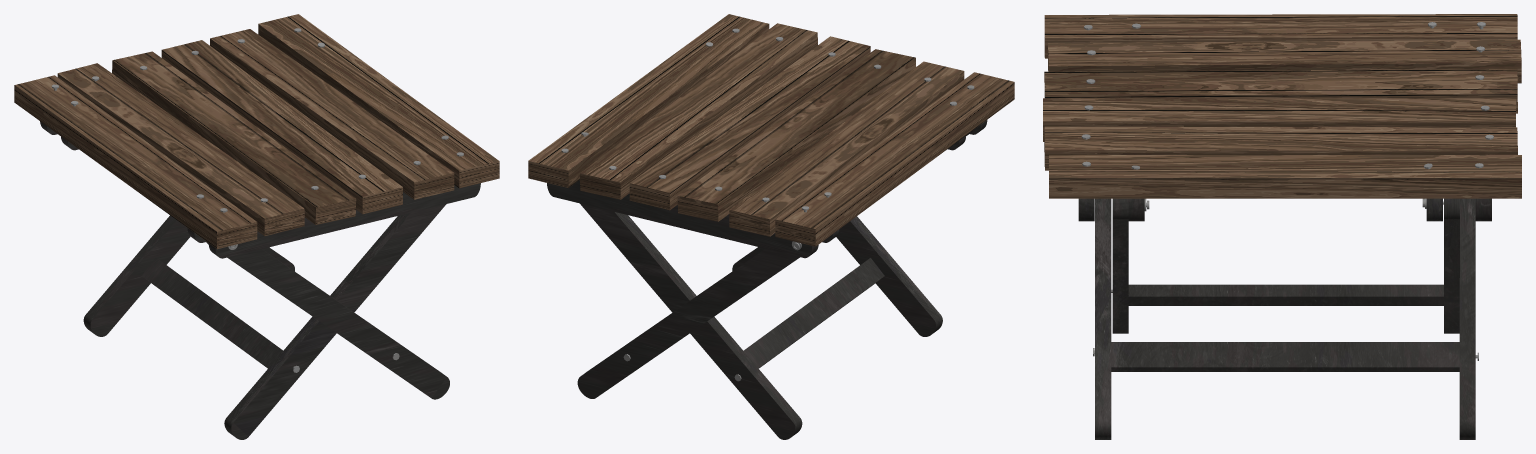
The model's file is WoodenTable.glb.
The picture shows the model from 3 angles, left to right: view 1: azimuth 30°, elevation 25°; view 2: azimuth 150°, elevation 25°; view 3: azimuth 270°, elevation 25°; orthographic projection. The views are drawn at different scales.
Parts seen in each view (by area): view 1: Cube, Cube.012, Cylinder.010; view 2: Cube, Cube.012, Cylinder.010; view 3: Cube, Cube.012, Cylinder.010.
Part boxes in pixels (x1=…): Cube: x1=14, y1=14, x2=499, y2=249; Cube.012: x1=40, y1=121, x2=480, y2=439; Cylinder.010: x1=51, y1=28, x2=463, y2=372; Cube: x1=528, y1=14, x2=1014, y2=246; Cube.012: x1=547, y1=120, x2=987, y2=439; Cylinder.010: x1=561, y1=28, x2=974, y2=381; Cube: x1=1043, y1=14, x2=1521, y2=198; Cube.012: x1=1078, y1=198, x2=1491, y2=439; Cylinder.010: x1=1081, y1=22, x2=1493, y2=360.
Size of the model in its own units: 1.77 by 1.46 by 2.18.
Materials: 3 (3 with a texture image).
